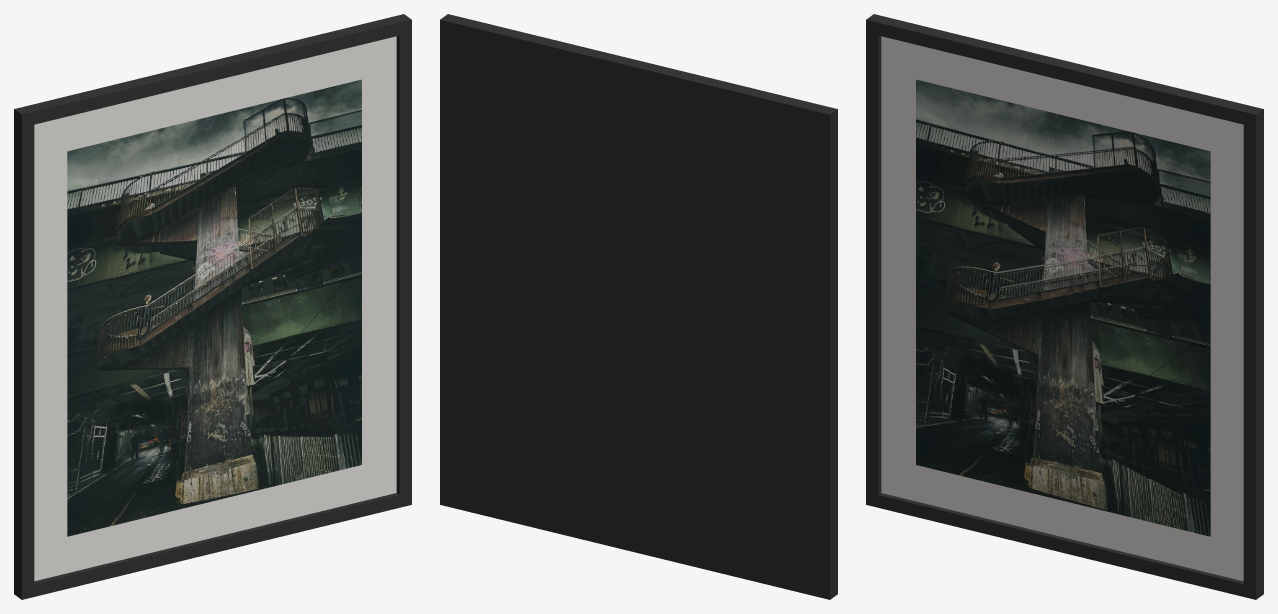
The model's file is trappan-60.gltf.
3 views of the same model, side by side, from view 1: azimuth 30°, elevation 25°; view 2: azimuth 150°, elevation 25°; view 3: azimuth 330°, elevation 25° (orthographic).
Visible parts, largest first — view 1: tavla; view 2: tavla; view 3: tavla.
Part boxes in pixels (x1,y1,x2,y2): tavla: (14,14,411,599); tavla: (440,14,837,599); tavla: (866,14,1263,599).
Size of the model in its own units: 0.6352 by 0.7552 by 0.022.
Materials: 3 (1 with a texture image).
